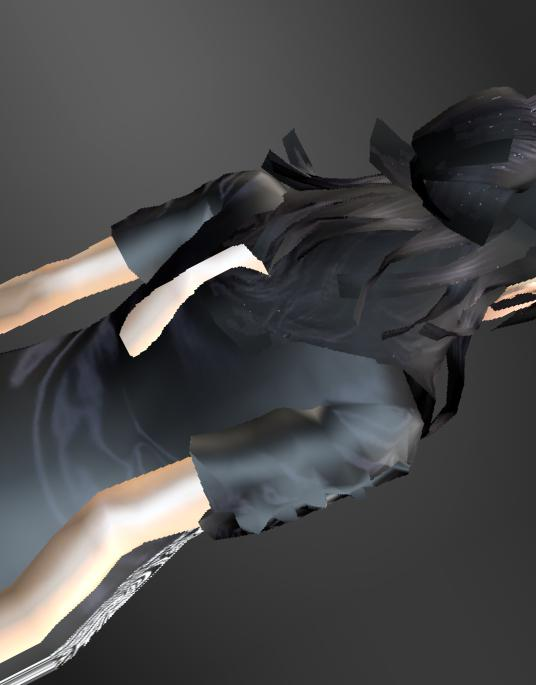clip: (111, 306, 189, 352)
